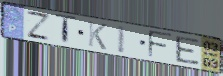E: (174, 35, 201, 67)
F: (147, 29, 174, 60)
I: (116, 24, 127, 55)
K: (87, 20, 108, 52)
T: (54, 12, 79, 47)
Z: (26, 9, 53, 43)
